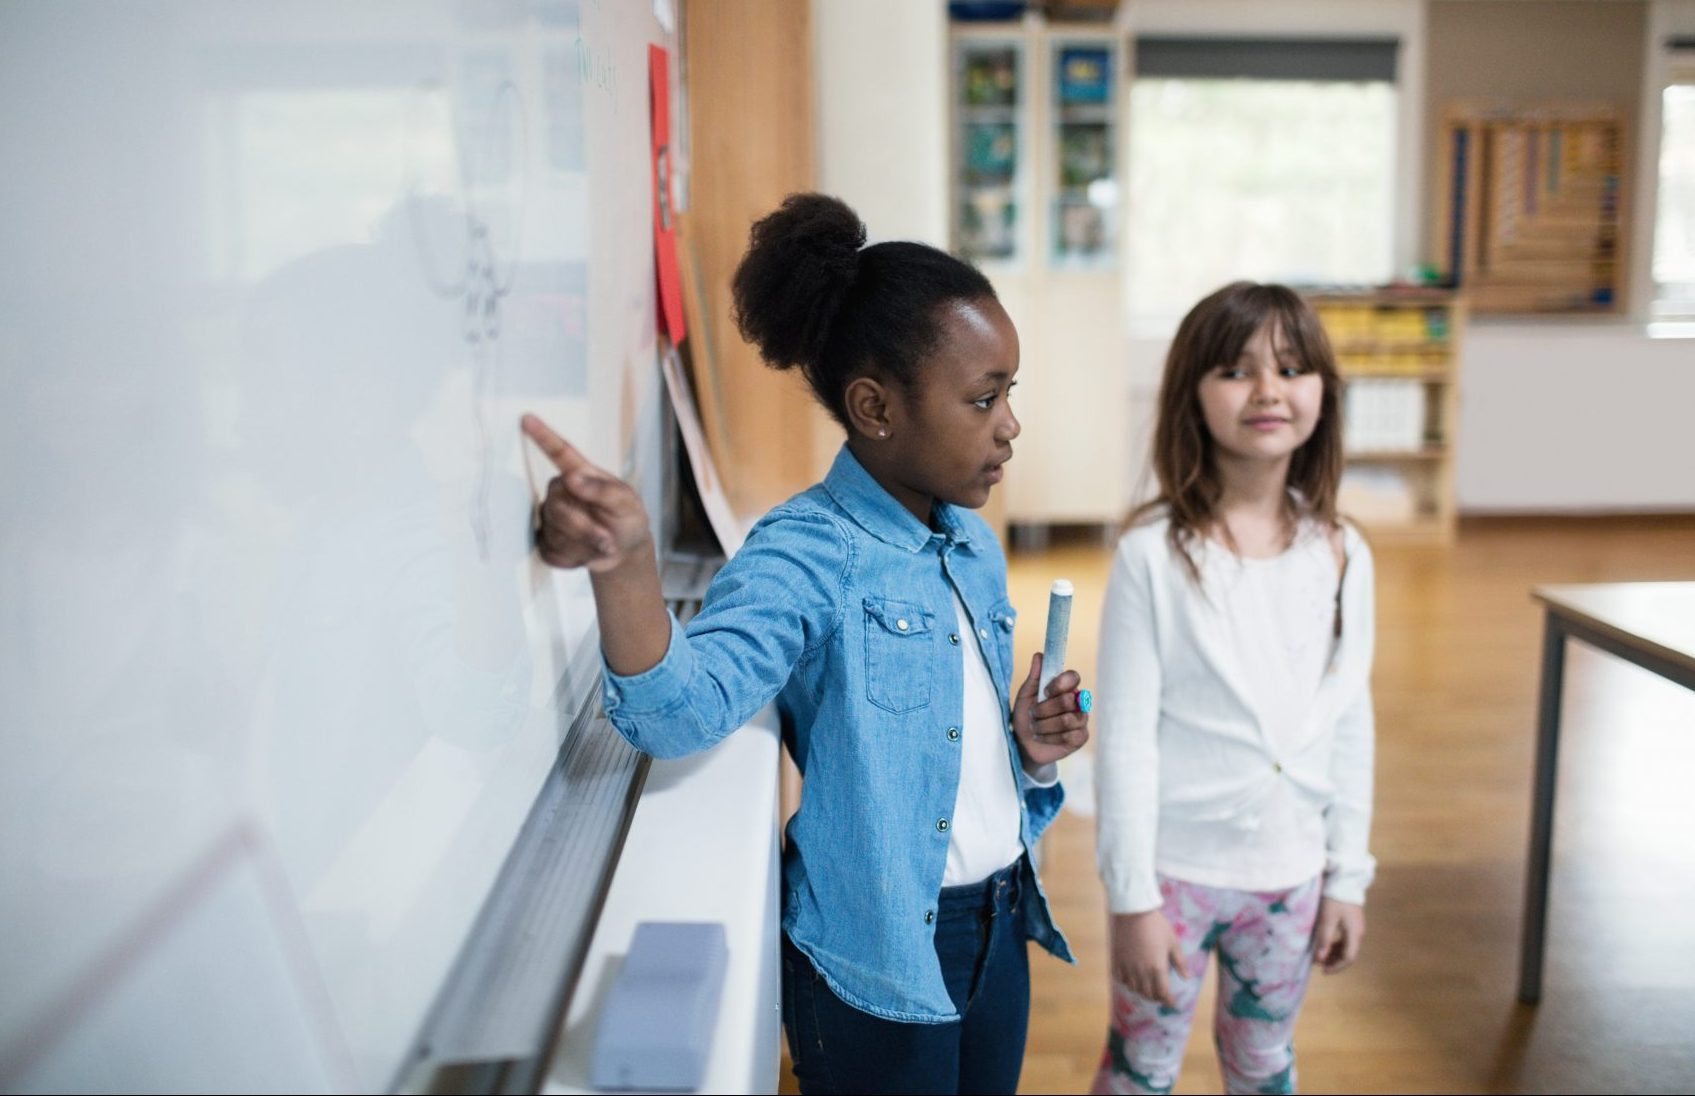Person: (527, 201, 1081, 1061), (1121, 281, 1414, 1068)
